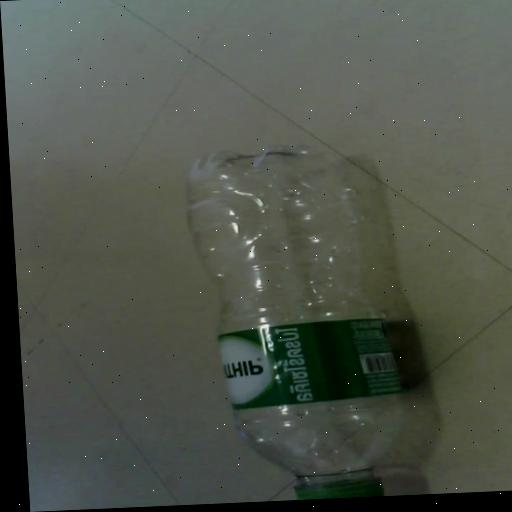bottle: (144, 120, 456, 506)
